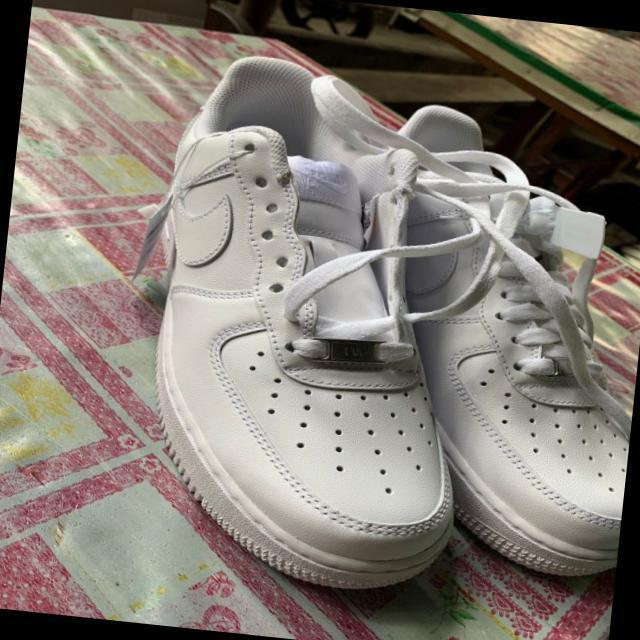nike original air force: (126, 48, 493, 598), (355, 98, 640, 585)
